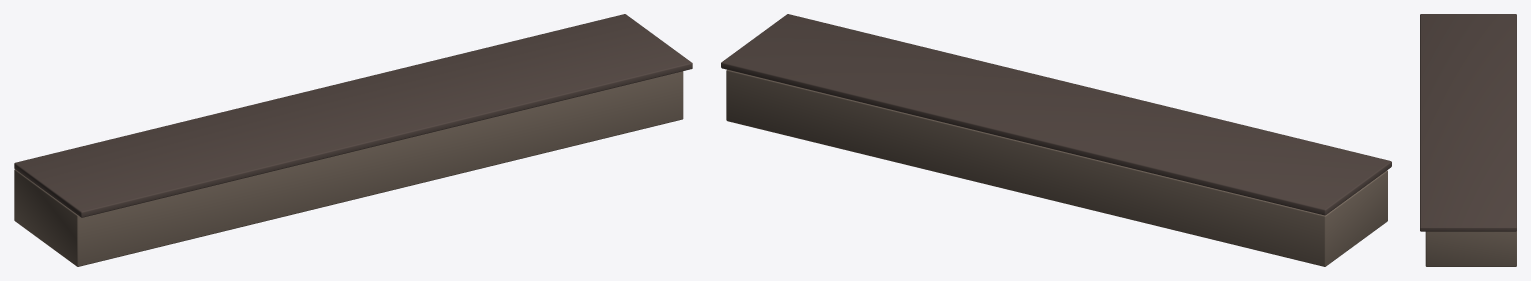
Rendered from blat.fbx.
3 views of the same model, side by side, from view 1: azimuth 30°, elevation 25°; view 2: azimuth 150°, elevation 25°; view 3: azimuth 270°, elevation 25° (orthographic). The views are drawn at different scales.
Visible parts, largest first — view 1: Cube; view 2: Cube; view 3: Cube.
Boxes of the visible parts, box(x1,y1,x2,y2) form: Cube: box(14, 14, 692, 266); Cube: box(721, 14, 1391, 266); Cube: box(1420, 14, 1516, 266).
Size of the model in its own units: 1110 by 101 by 212.
